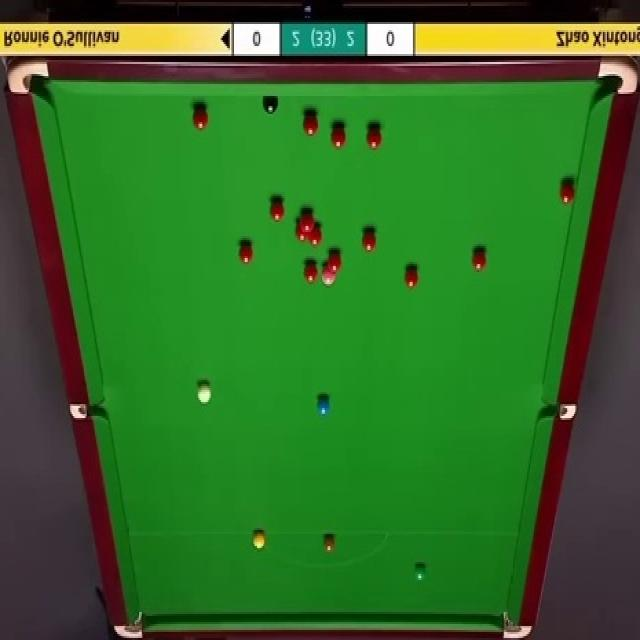black-ball: (262, 95, 279, 114)
blue-ball: (316, 395, 330, 420)
brown-ball: (323, 534, 335, 552)
green-ball: (412, 562, 427, 582)
pink-ball: (323, 264, 336, 286)
red-ball: (559, 177, 576, 206), (403, 262, 420, 291), (192, 106, 209, 131), (470, 248, 487, 273), (366, 125, 382, 151), (239, 239, 255, 263), (331, 124, 346, 149), (361, 228, 376, 253), (304, 112, 318, 137), (308, 222, 322, 246), (270, 199, 284, 222), (328, 252, 342, 274), (304, 262, 318, 281), (301, 210, 314, 230), (295, 222, 308, 242)
white-ball: (195, 378, 212, 406)
yellow-ball: (252, 531, 265, 551)
